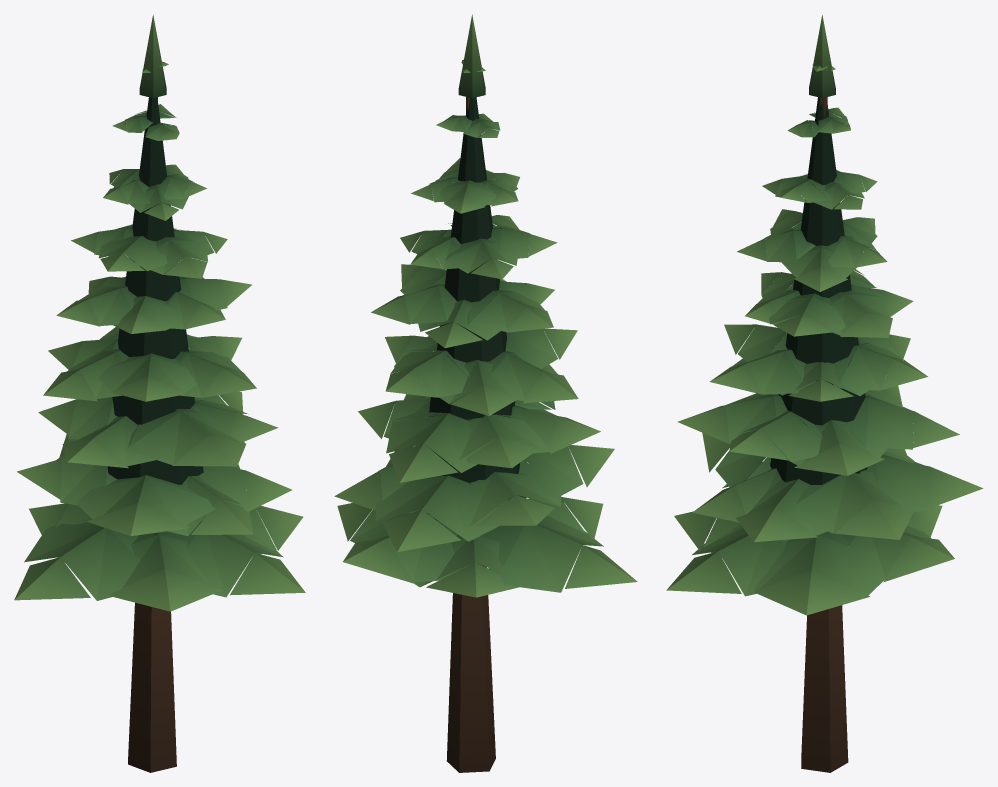
Rendered from valley-pine_b_mid.glb.
The picture shows the model from 3 angles, left to right: view 1: azimuth 30°, elevation 25°; view 2: azimuth 150°, elevation 25°; view 3: azimuth 270°, elevation 25°; orthographic projection.
Visible parts, largest first — view 1: pine_b_mid; view 2: pine_b_mid; view 3: pine_b_mid.
Boxes of the visible parts, box(x1,y1,x2,y2) form: pine_b_mid: box(14, 14, 305, 772); pine_b_mid: box(334, 14, 637, 772); pine_b_mid: box(666, 15, 983, 772).
Bounding box in the file's own units: 13.11 × 31.81 × 12.23.
